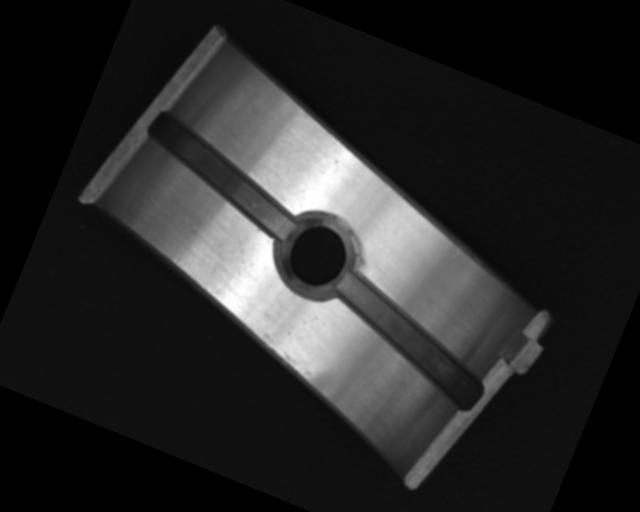gap: (314, 267, 501, 410), (126, 107, 313, 242)
hole: (262, 198, 371, 311)
